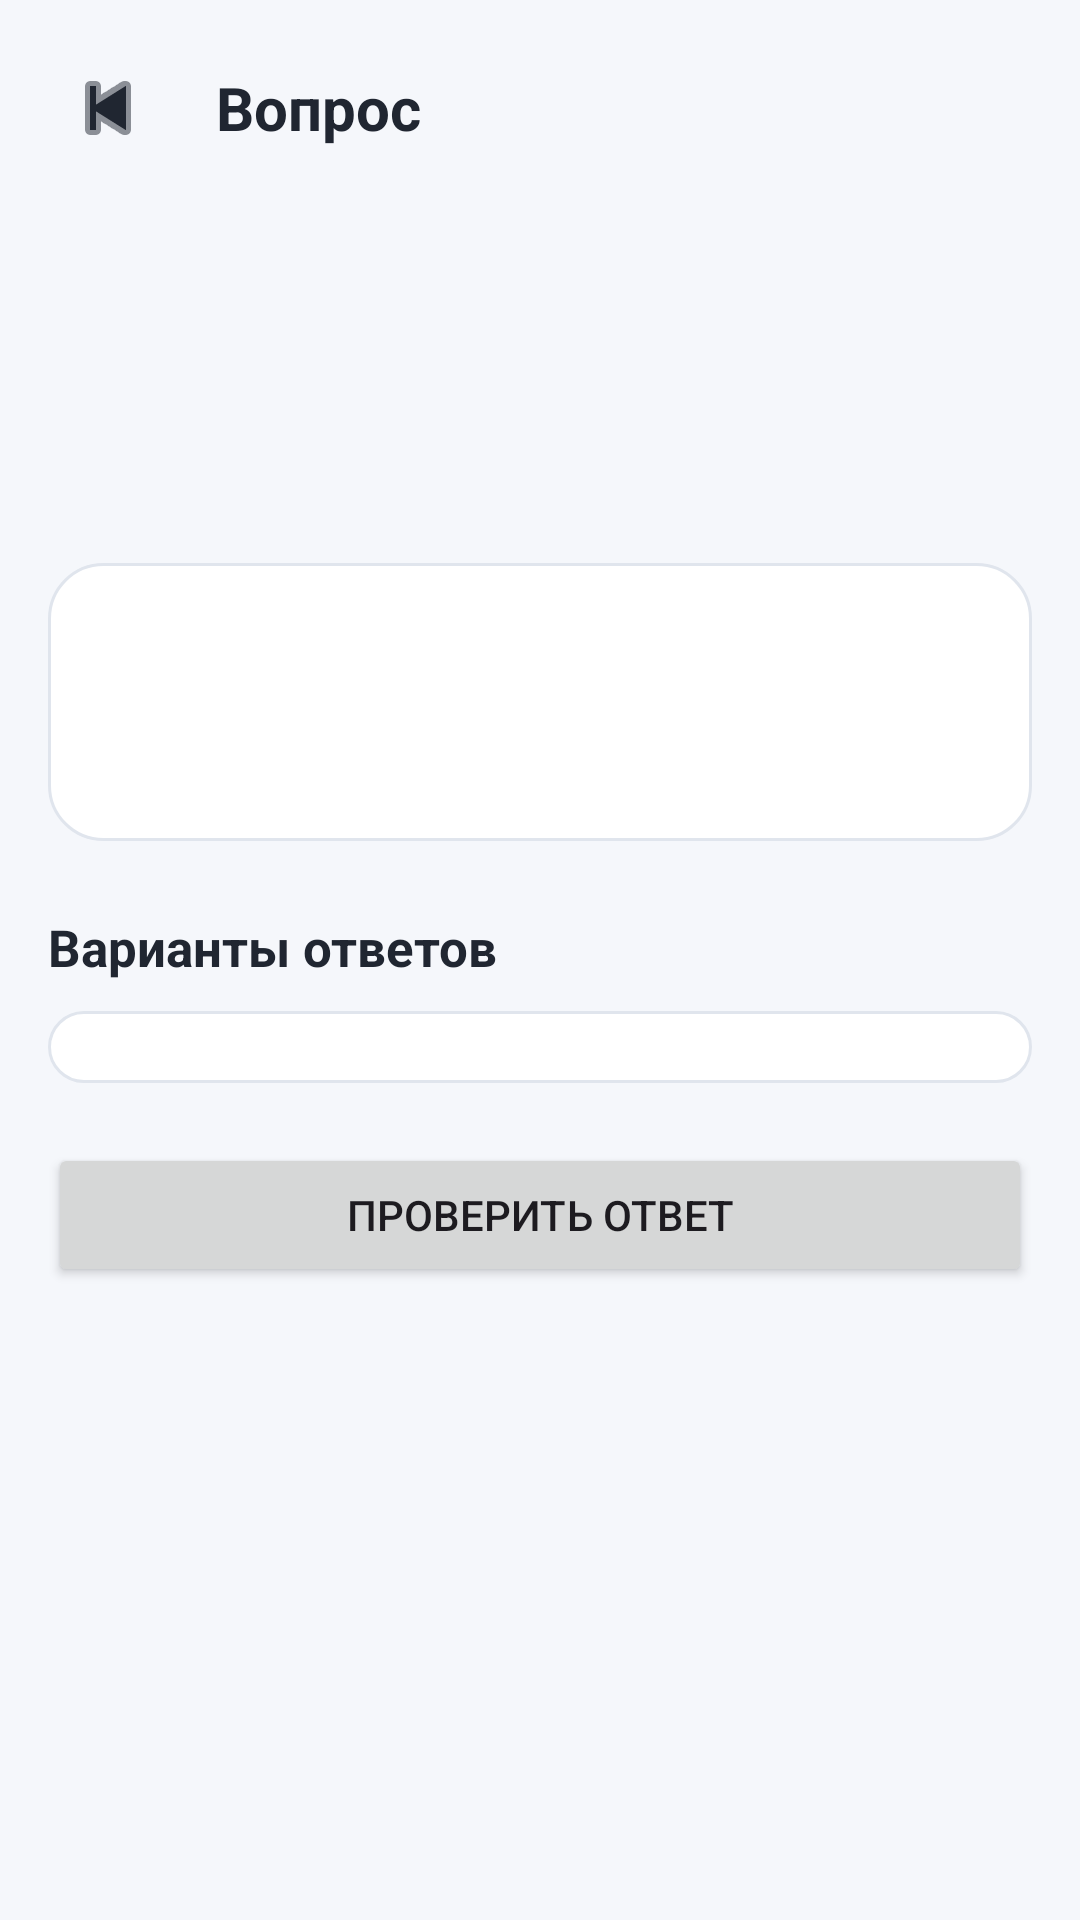

Named icons in this screenshot (1080 x 1920) and their centers, [x,y]:
Back: [108,108]
